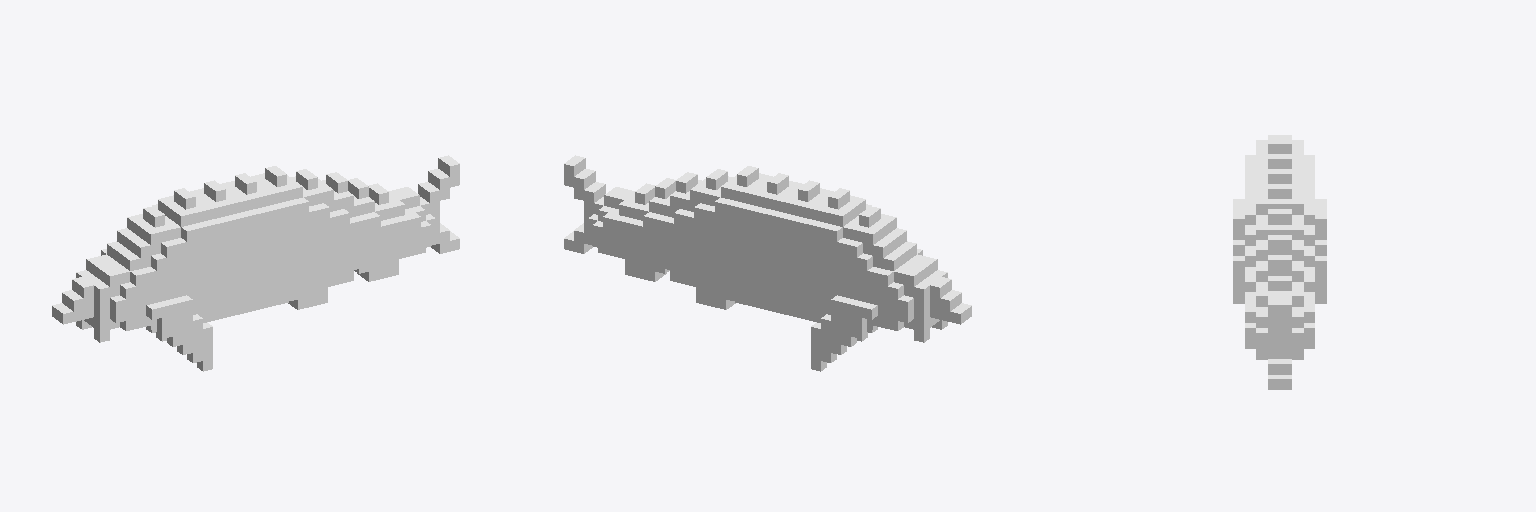
The model's file is Esturion.obj.
3 renders of one model, left to right at view 1: azimuth 30°, elevation 25°; view 2: azimuth 150°, elevation 25°; view 3: azimuth 270°, elevation 25°, orthographic.
Visible parts, largest first — view 1: object 1; view 2: object 1; view 3: object 1.
Boxes of the visible parts, x1,y1,x2,y2 form: object 1: [52, 155, 459, 371]; object 1: [564, 155, 971, 371]; object 1: [1233, 135, 1326, 389].
Bounding box in the file's own units: 3.9 × 1.5 × 0.8.